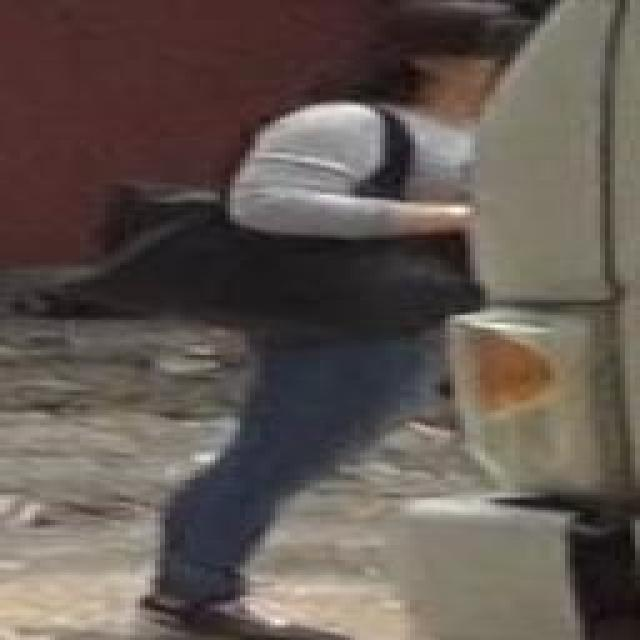adult: (225, 16, 555, 616)
